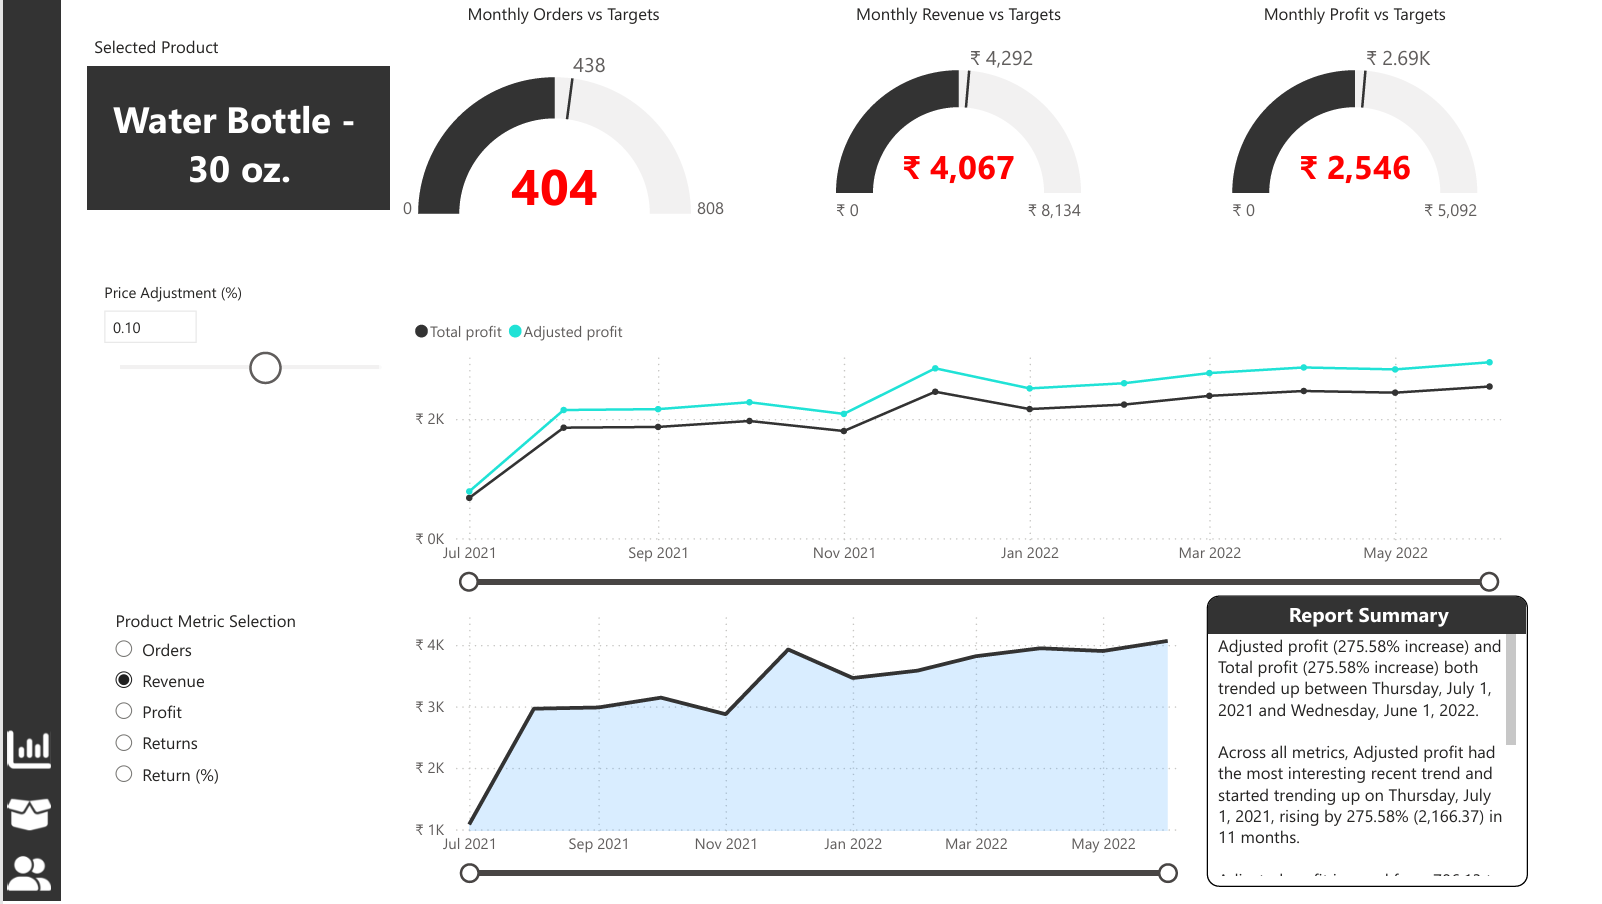

The page's visual inventory and layout, read from the dashboard file:
{"tool":"powerbi","page":{"name":"Product Detail","canvas":[1280,720],"ordinal":1},"visuals":[{"type":"shape","box":[0,0,46,720.2],"z":0},{"type":"actionButton","box":[0,578.1,46,42.5],"z":0,"group":"g1"},{"type":"gauge","title":"Monthly Orders vs Targets","fields":{"Y":["Measure Table.Total Orders"],"TargetValue":["Measure Table.Order target"]},"box":[309.9,2.3,276.8,184.9],"z":1000},{"type":"gauge","title":"Monthly Revenue vs Targets","fields":{"Y":["Measure Table.Total Revenue"],"TargetValue":["Measure Table.Revenue target"]},"box":[626.4,2.3,276.8,184.9],"z":2000},{"type":"actionButton","box":[0,629.8,46,42.5],"z":2000,"group":"g1"},{"type":"gauge","title":"Monthly Profit vs Targets","fields":{"Y":["Measure Table.Total profit"],"TargetValue":["Measure Table.Profit target"]},"box":[942.9,2.3,276.8,184.9],"z":3000},{"type":"actionButton","box":[0,677.2,46,42.5],"z":3000,"group":"g1"},{"type":"lineChart","title":"Profit Trending","fields":{"Y":["Measure Table.Total profit","Measure Table.Adjusted profit"],"Category":["Calendar Lookup.Date Hierarchy.Start of Year","Calendar Lookup.Date Hierarchy.Start of Month","Calendar Lookup.Date Hierarchy.Start of Week","Calendar Lookup.Date Hierarchy.Date"]},"box":[323.8,245,896.2,231.2],"z":4000},{"type":"areaChart","title":"Returns Trending","fields":{"Y":["Measure Table.Total Revenue"],"Category":["Calendar Lookup.Date Hierarchy.Start of Year","Calendar Lookup.Date Hierarchy.Start of Month","Calendar Lookup.Date Hierarchy.Start of Week","Calendar Lookup.Date Hierarchy.Date"]},"box":[323.9,476.7,638.7,232],"z":5000},{"type":"card","fields":{"Values":["Min(Product Lookup.ProductName)"]},"box":[67.8,52.8,242.4,114.9],"z":6000},{"type":"textbox","box":[67.8,23,119.5,29.9],"z":7000},{"type":"group","id":"g1","title":"Navigation buttons","box":[0,578.1,46,141.7],"z":8000},{"type":"slicer","fields":{"Values":["Price Adjustment (%).Price Adjustment (%)"]},"box":[67.5,220,256.2,108.8],"z":9000},{"type":"slicer","fields":{"Values":["Product Metric Selection.Product Metric Selection"]},"box":[77,482.4,233.2,195.3],"z":10000},{"type":"textbox","title":"Report Summary","box":[962.6,475.6,257.3,233.2],"z":11000}]}

Visuals, with their boxes in screenshot pixels (x1, y1, x2, y2):
shape: left=0, top=0, right=59, bottom=888
actionButton: left=0, top=706, right=59, bottom=761
"Monthly Orders vs Targets" gauge: left=397, top=0, right=751, bottom=206
"Monthly Revenue vs Targets" gauge: left=802, top=0, right=1156, bottom=206
actionButton: left=0, top=773, right=59, bottom=827
"Monthly Profit vs Targets" gauge: left=1207, top=0, right=1561, bottom=206
actionButton: left=0, top=833, right=59, bottom=888
"Profit Trending" lineChart: left=414, top=280, right=1561, bottom=576
"Returns Trending" areaChart: left=414, top=577, right=1232, bottom=873
card - Min(Product Lookup.ProductName): left=87, top=34, right=397, bottom=181
textbox: left=87, top=0, right=240, bottom=34
"Navigation buttons" group: left=0, top=706, right=59, bottom=888
slicer - Price Adjustment (%).Price Adjustment (%): left=86, top=248, right=414, bottom=387
slicer - Product Metric Selection.Product Metric Selection: left=99, top=584, right=397, bottom=834
"Report Summary" textbox: left=1232, top=575, right=1561, bottom=874
